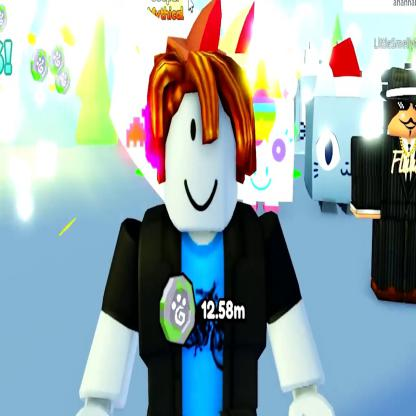Roblox-Avatar: (75, 37, 337, 416), (351, 68, 416, 306)
